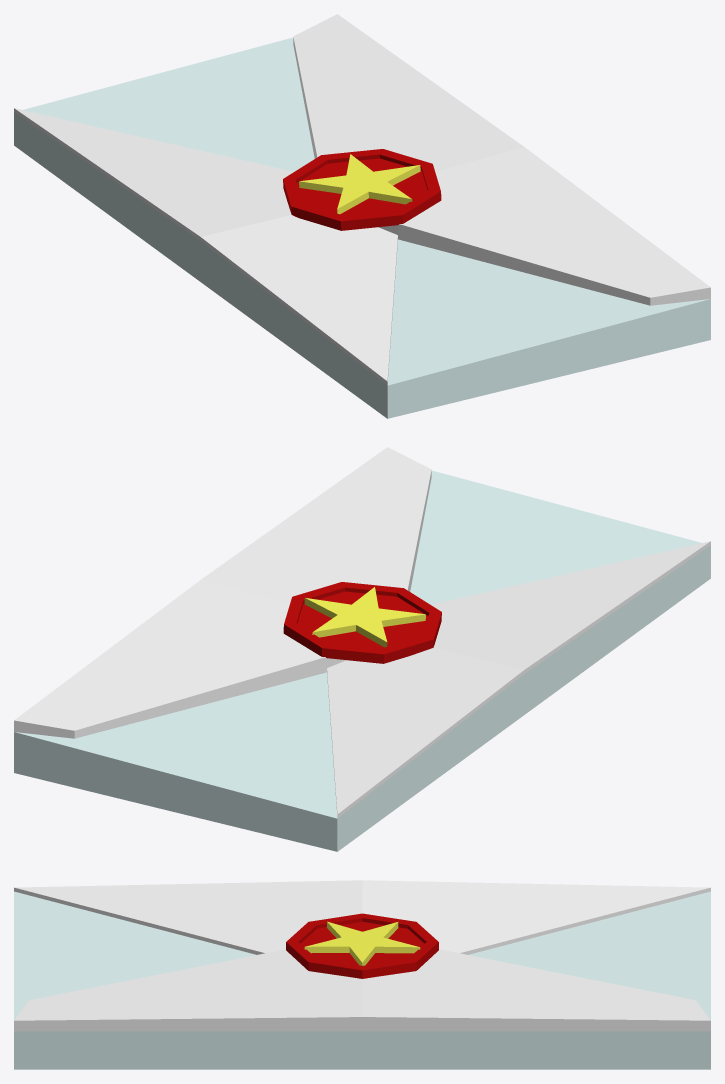
File: envelope.glb
The picture shows the model from 3 angles, top to bottom: view 1: azimuth 30°, elevation 25°; view 2: azimuth 150°, elevation 25°; view 3: azimuth 270°, elevation 25°; orthographic projection. The views are drawn at different scales.
Parts seen in each view (by area): view 1: Envelope; view 2: Envelope; view 3: Envelope.
Part boxes in pixels (x1,y1,x2,y2): Envelope: [14, 14, 710, 418]; Envelope: [14, 447, 710, 851]; Envelope: [14, 880, 710, 1069].
Bounding box in the file's own units: 0.165 × 0.0311 × 0.33.
1 material, 1 textured.
